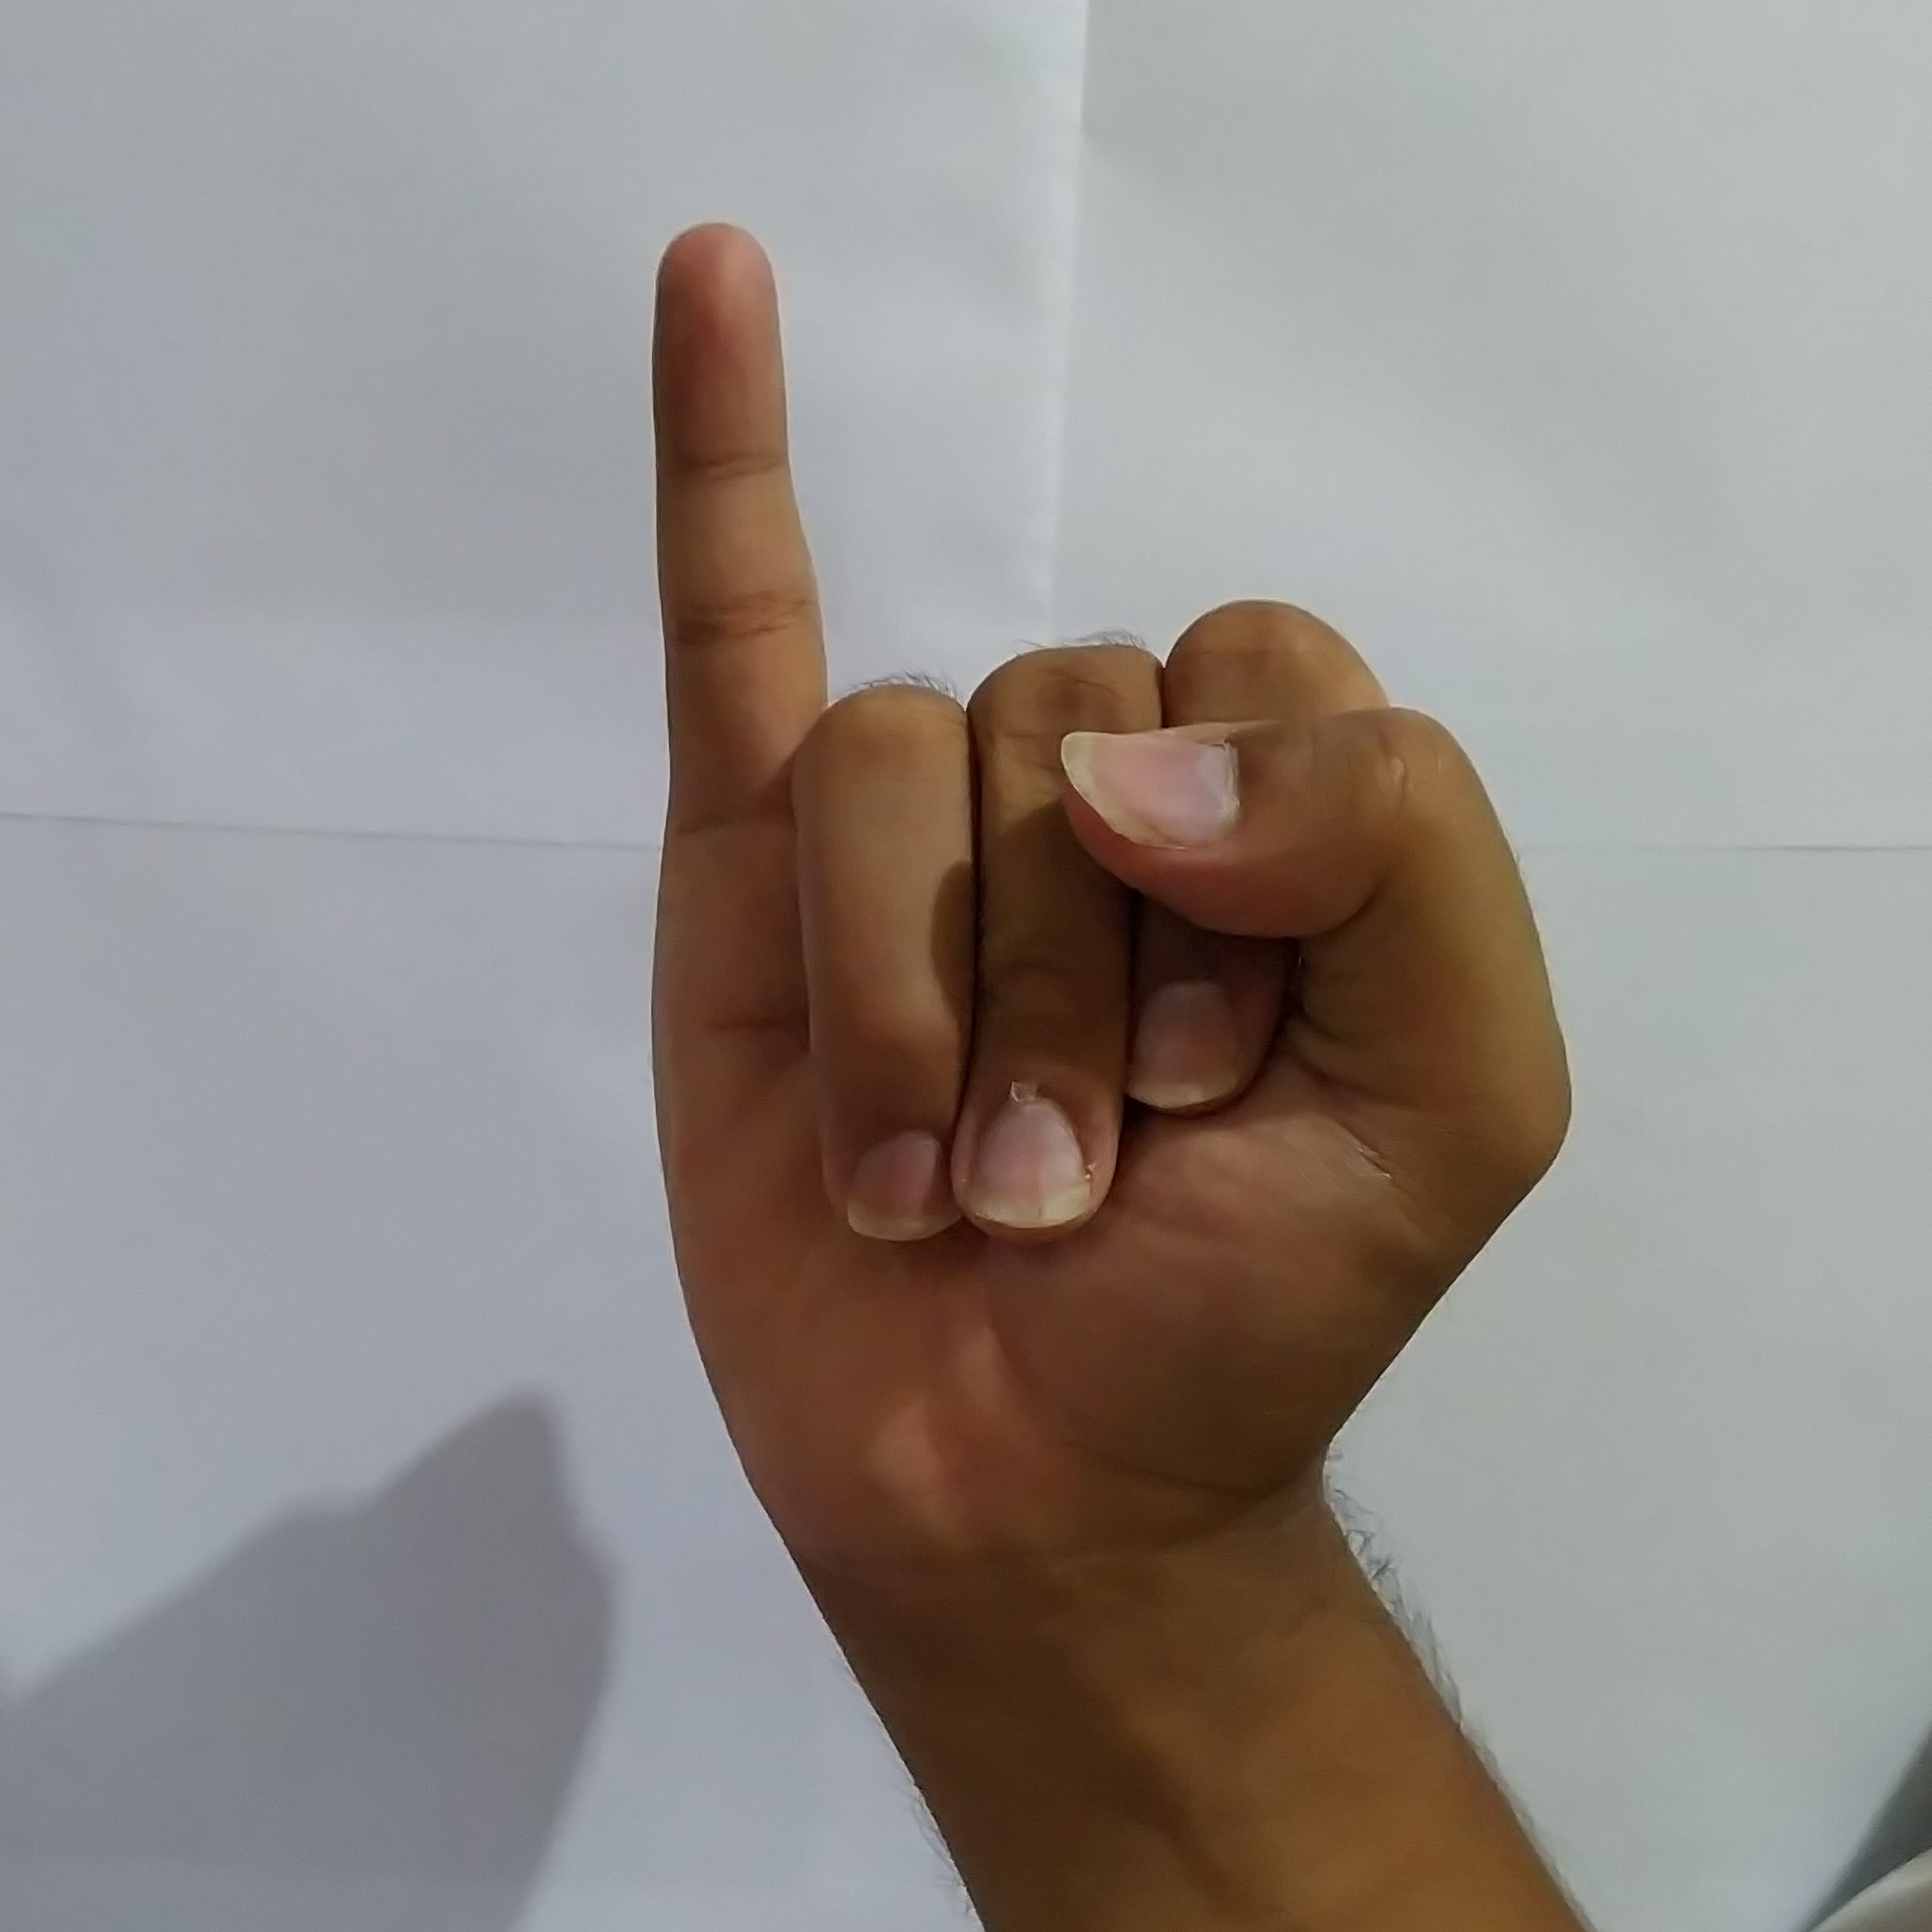I: (605, 196, 1594, 1488)
